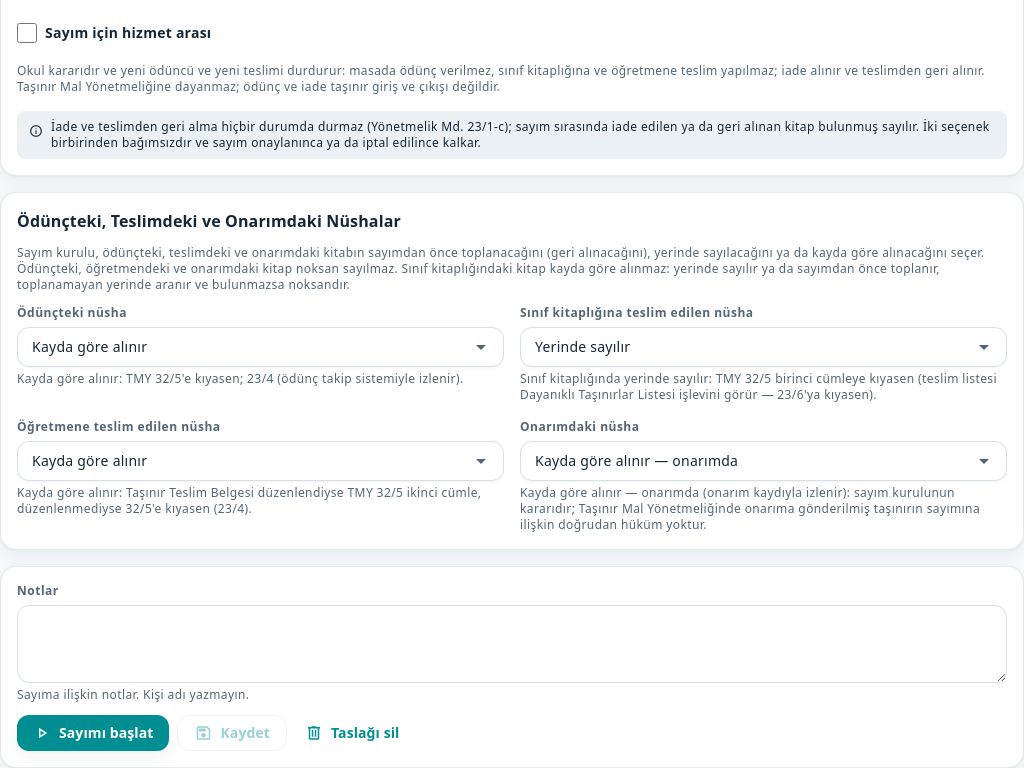
Test: Taslak — kurul, iki ayrı seçenek, kurulun seçimi › başarılı başlatmada okutma ekranına geçilir
The width and height of the screenshot is (1024, 768).
(page scrolled)
Click the button "Sayımı başlat". click: click(93, 733)
box: [17,715,170,751]
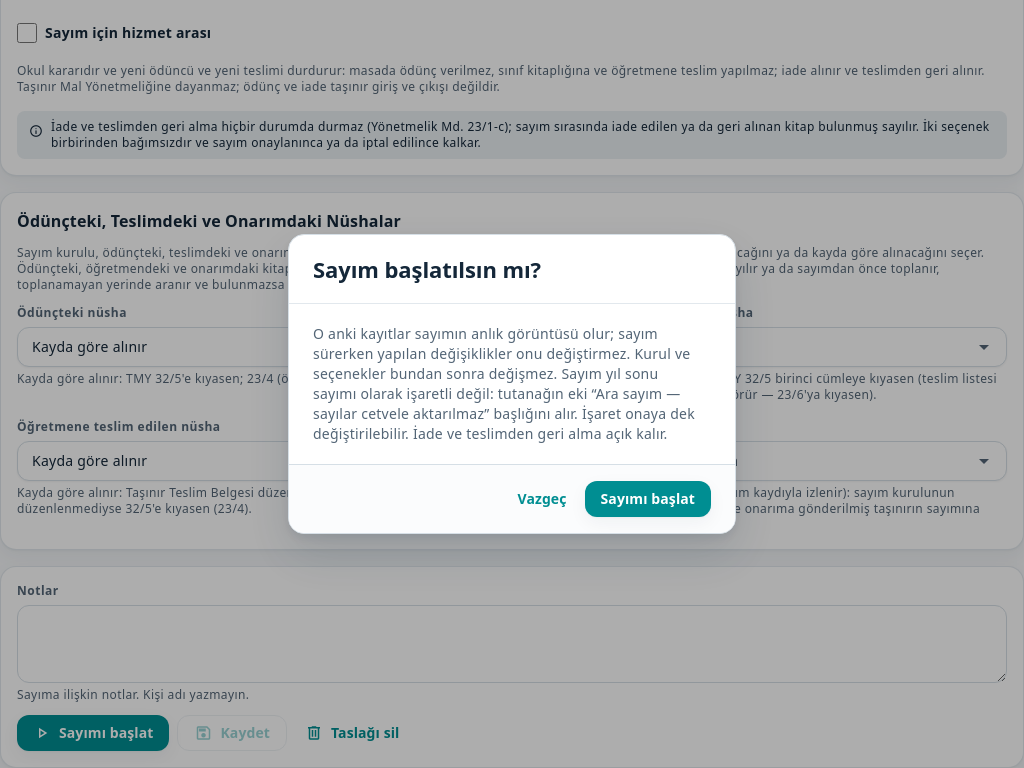
Click the button "Sayımı başlat". click: click(648, 499)
box: [584,481,711,517]
(page scrolled)
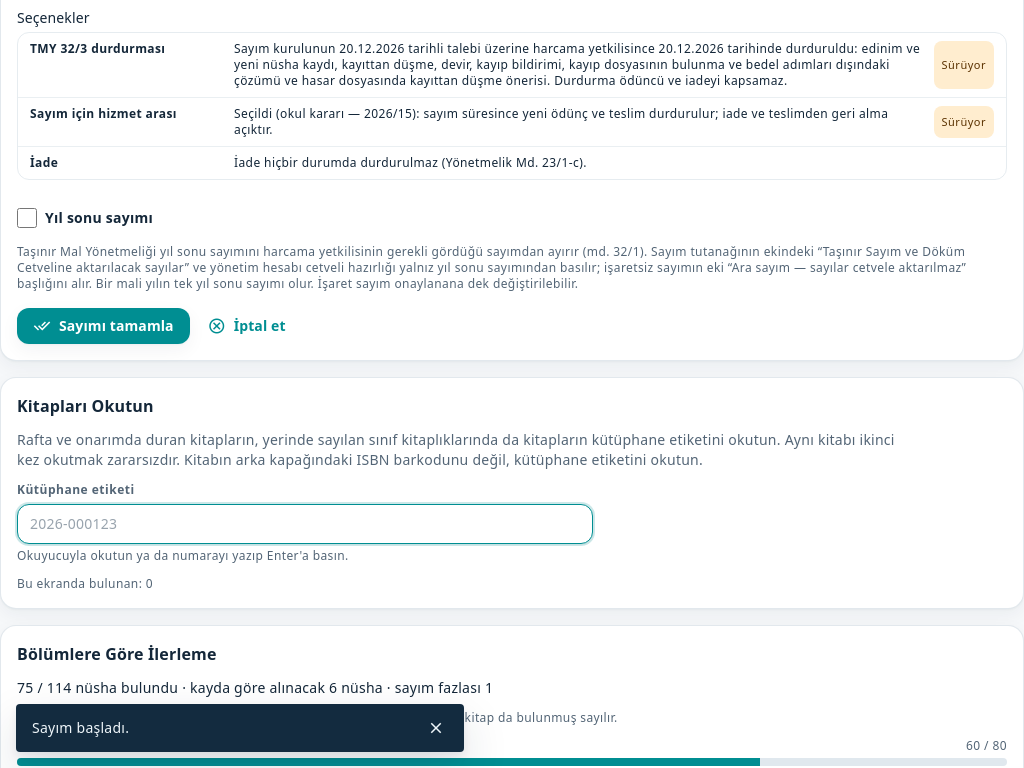
Expected: the field labelled "Kütüphane etiketi" is shown, [30,514,580,534]
Now the text "Sayım başladı." is shown, box [32,718,129,737]
